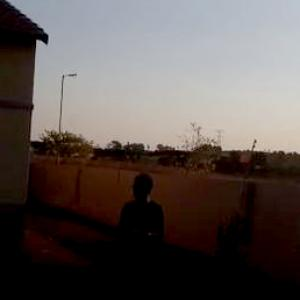follow: (115, 171, 172, 299)
